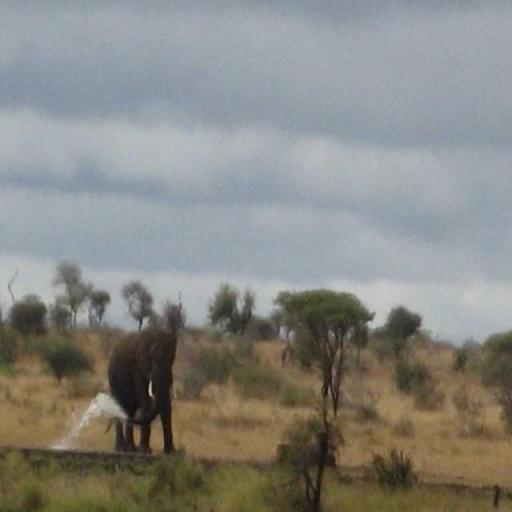Elephant: (105, 325, 177, 454)
